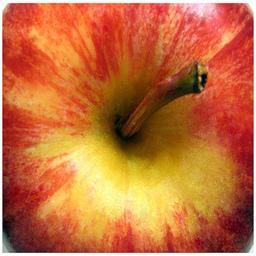apple: (0, 2, 252, 252)
